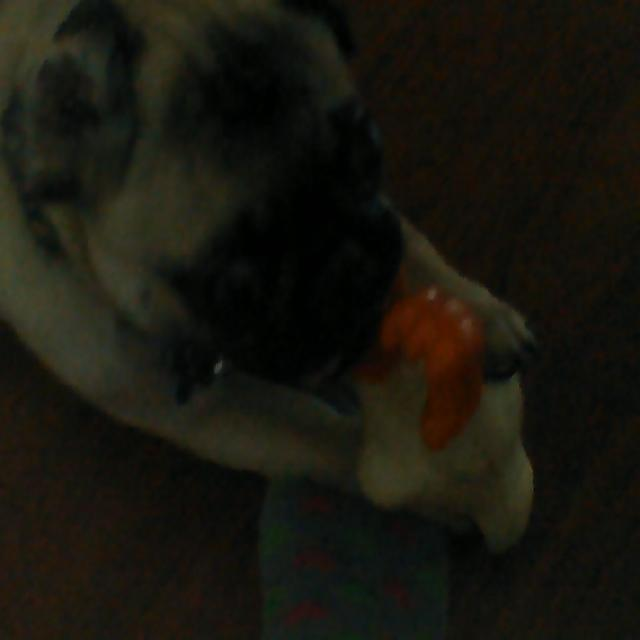Dog: (0, 18, 611, 579)
